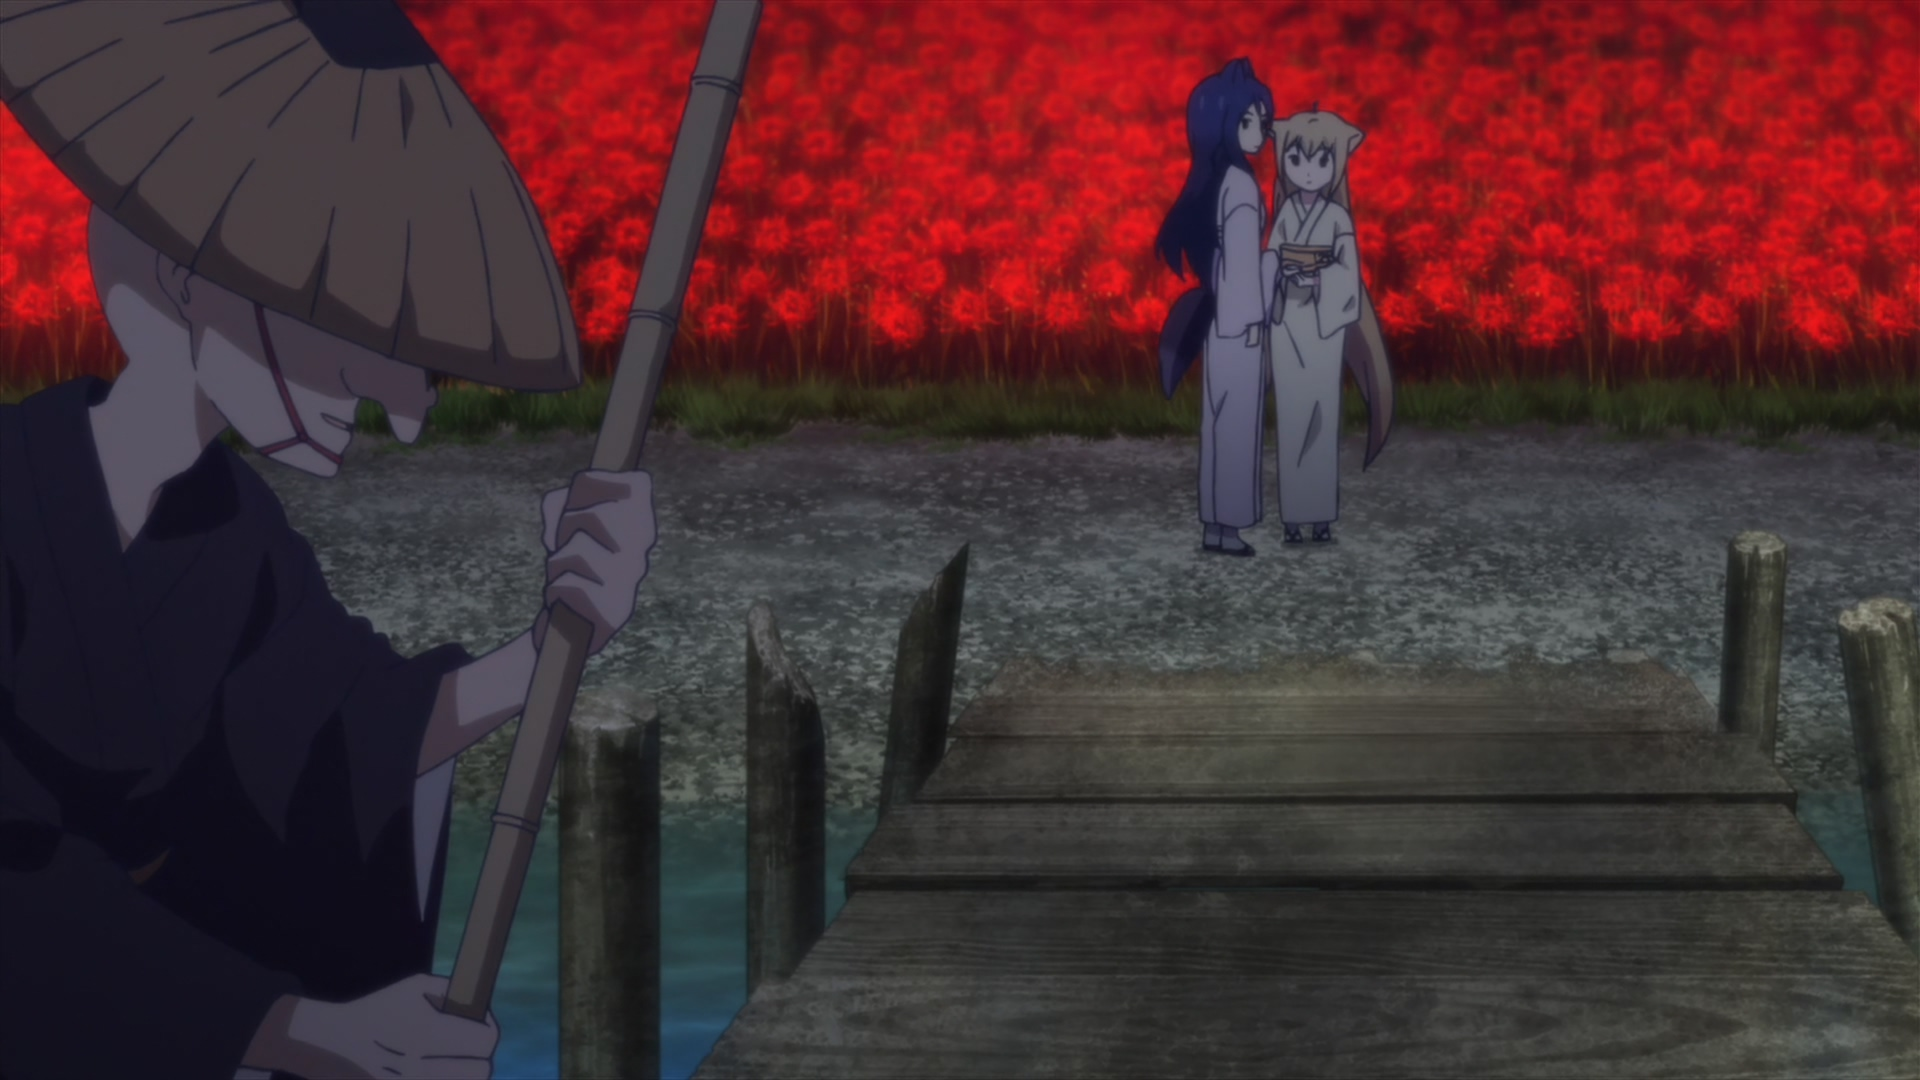其他: (1, 1, 655, 1080)
柚: (1261, 102, 1396, 541)
皋: (1153, 49, 1284, 556)
